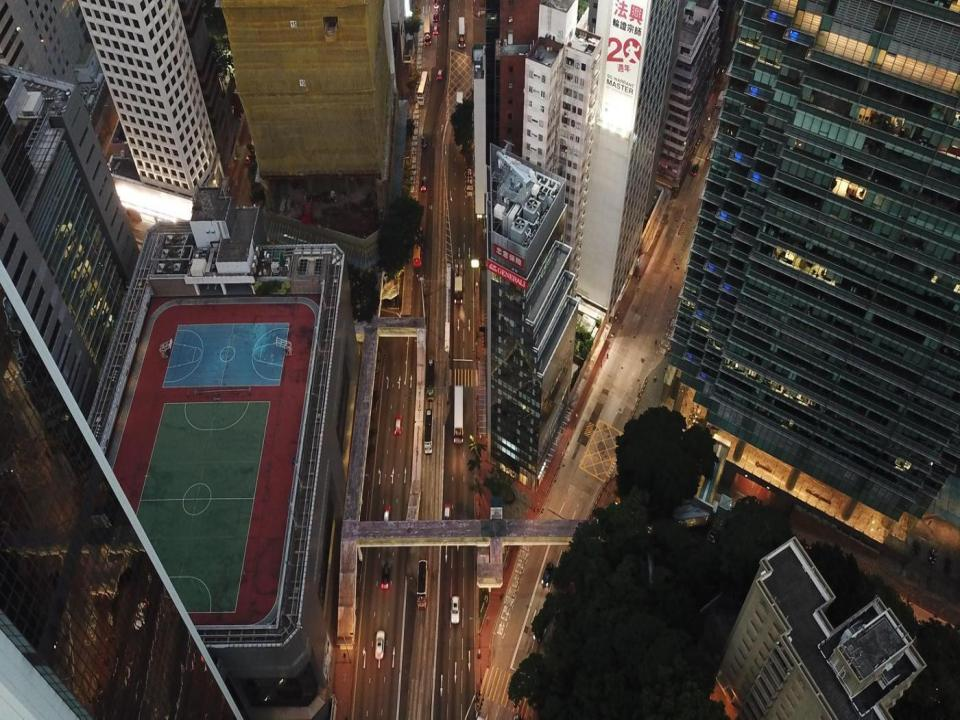bus: (417, 559, 428, 609), (454, 385, 463, 444), (417, 70, 429, 105), (424, 409, 432, 454), (426, 359, 434, 401), (458, 15, 466, 48), (456, 92, 464, 124)
car: (450, 595, 460, 626), (541, 562, 553, 587), (375, 630, 384, 659), (380, 563, 390, 588), (394, 414, 401, 434), (383, 504, 390, 523), (912, 540, 920, 555), (444, 503, 450, 522), (929, 548, 936, 564), (692, 164, 700, 176), (246, 151, 253, 164), (420, 176, 426, 191), (421, 134, 427, 147), (436, 68, 442, 80), (432, 12, 438, 22), (434, 0, 440, 8), (434, 23, 438, 34)
truck: (412, 228, 423, 266), (454, 258, 463, 304), (423, 13, 431, 44), (716, 90, 727, 108)
